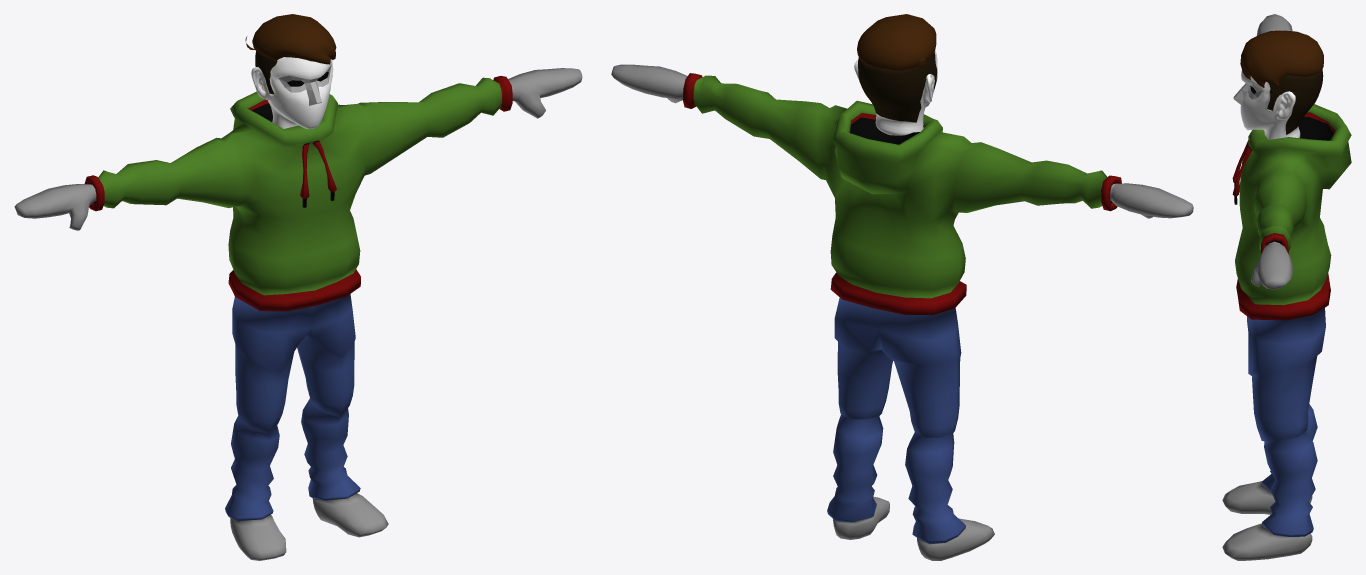
The model's file is persoformixamo.fbx.
The picture shows the model from 3 angles, left to right: view 1: azimuth 30°, elevation 25°; view 2: azimuth 150°, elevation 25°; view 3: azimuth 270°, elevation 25°; orthographic projection. The views are drawn at different scales.
Visible parts, largest first — view 1: Perso.000; view 2: Perso.000; view 3: Perso.000.
Boxes of the visible parts, box(x1,y1,x2,y2) form: Perso.000: box(14, 14, 582, 560); Perso.000: box(611, 14, 1193, 560); Perso.000: box(1222, 14, 1351, 560).
Bounding box in the file's own units: 256 × 220 × 52.17.
